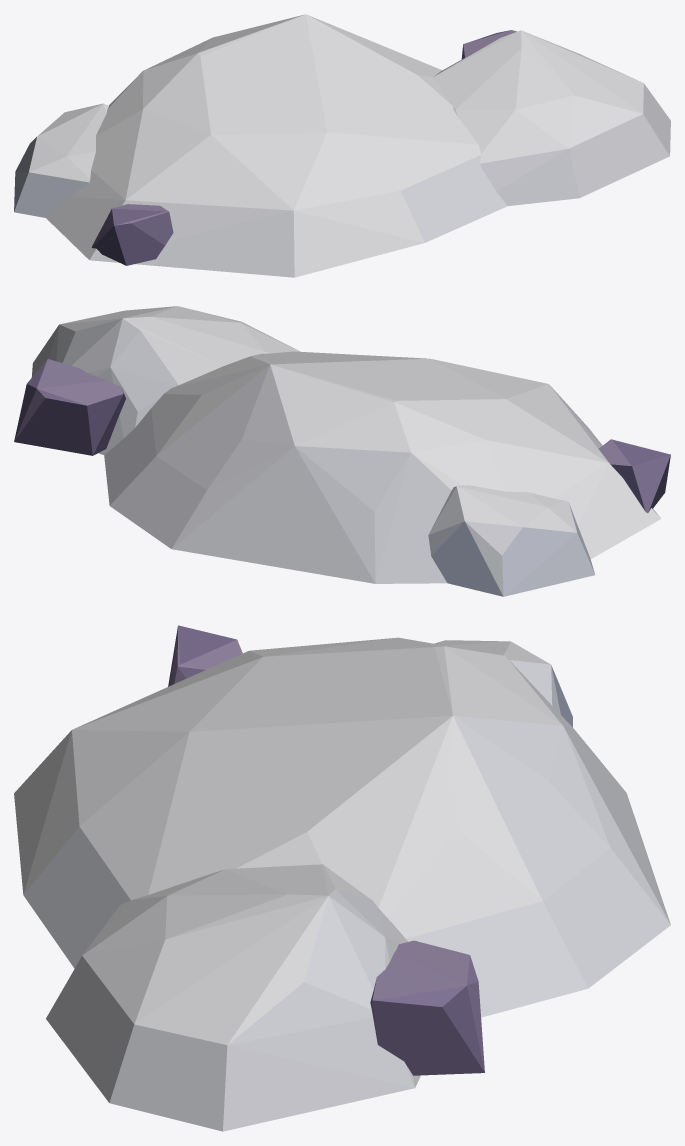
File: mtn_snow_drift.glb
The picture shows the model from 3 angles, top to bottom: view 1: azimuth 30°, elevation 25°; view 2: azimuth 150°, elevation 25°; view 3: azimuth 270°, elevation 25°; orthographic projection. The views are drawn at different scales.
Parts seen in each view (by area): view 1: mtn_snow_drift; view 2: mtn_snow_drift; view 3: mtn_snow_drift.
Part boxes in pixels (bbox=[...]): mtn_snow_drift: bbox=[14, 14, 670, 277]; mtn_snow_drift: bbox=[14, 306, 670, 596]; mtn_snow_drift: bbox=[14, 625, 670, 1131].
Bounding box in the file's own units: 6.07 × 1.22 × 3.76.
